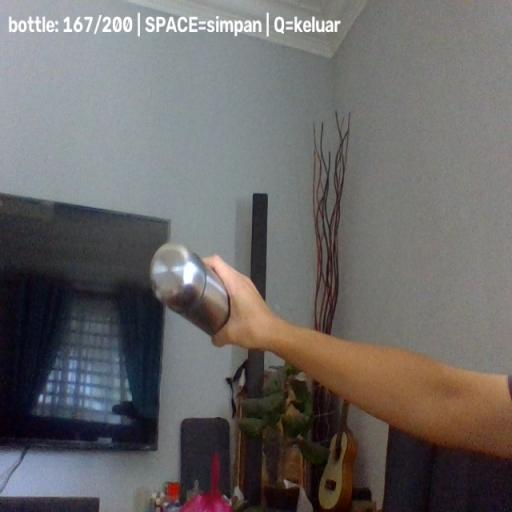Bottle: (149, 242, 231, 339)
